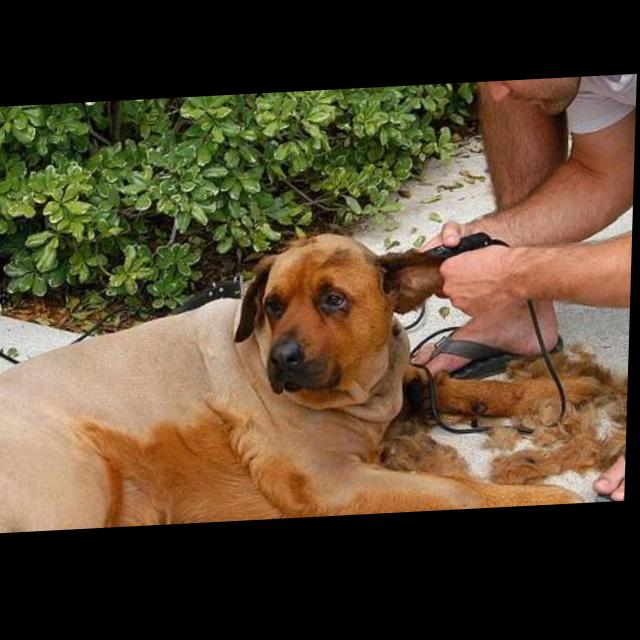face: (449, 84, 586, 126)
other_dog_breed: (1, 227, 585, 534)
person: (411, 81, 639, 517)
